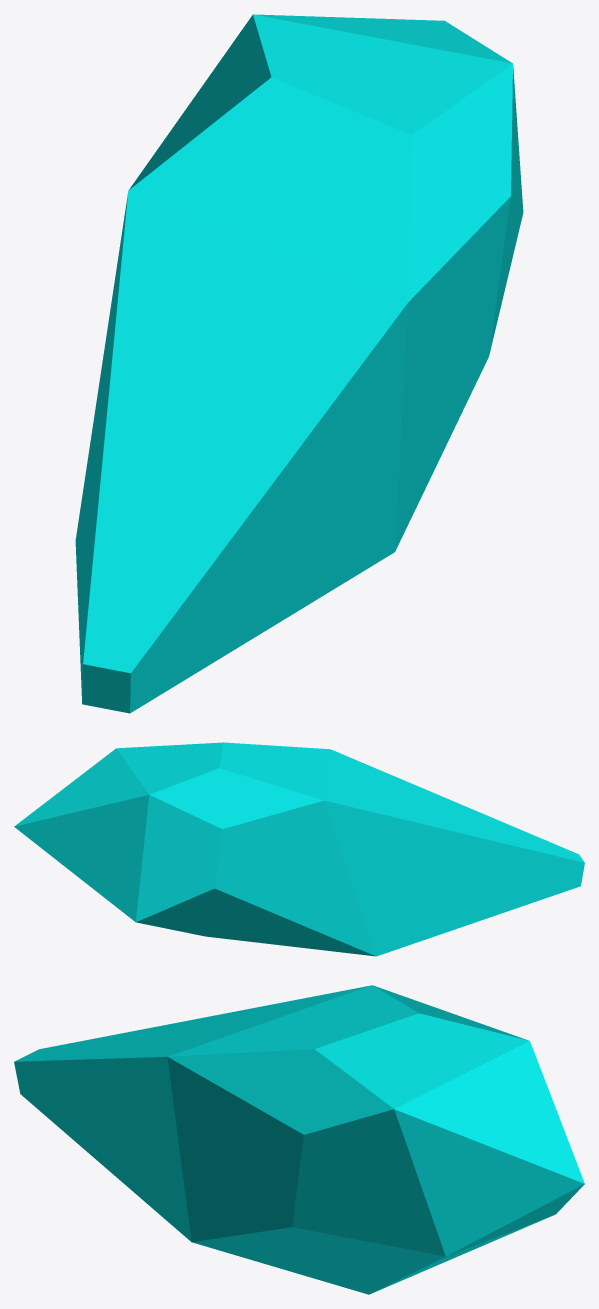
Rendered from Cristal Solo.fbx.
3 renders of one model, top to bottom at view 1: azimuth 30°, elevation 25°; view 2: azimuth 150°, elevation 25°; view 3: azimuth 270°, elevation 25°, orthographic. The views are drawn at different scales.
Parts seen in each view (by area): view 1: polySurface276; view 2: polySurface276; view 3: polySurface276.
Part boxes in pixels (bbox=[...]): polySurface276: bbox=[75, 14, 523, 713]; polySurface276: bbox=[14, 742, 584, 956]; polySurface276: bbox=[14, 985, 584, 1294].
Bounding box in the file's own units: 50.64 × 23.02 × 47.6.
